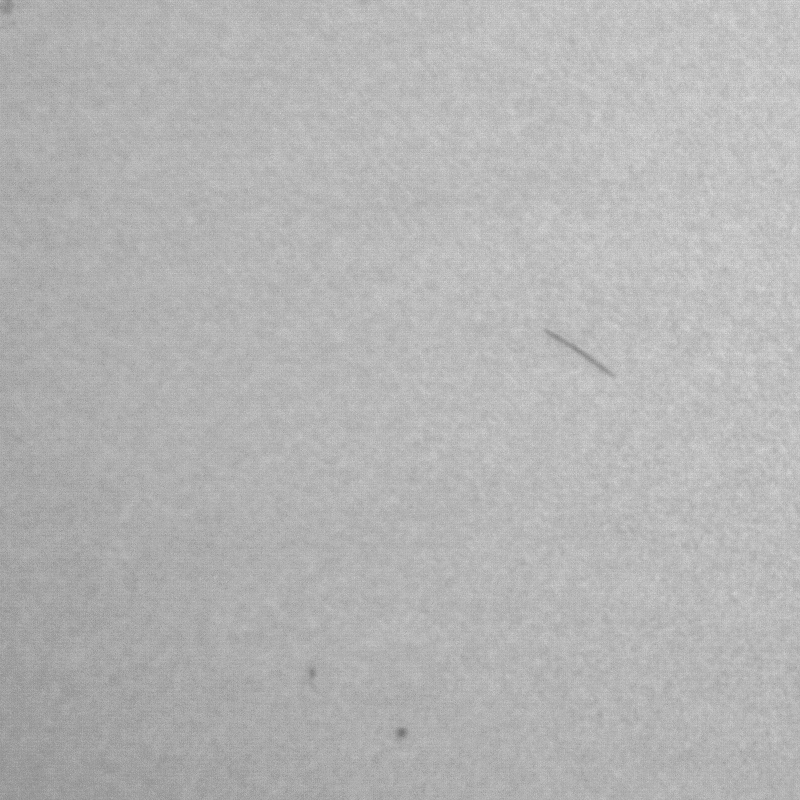defect: (544, 322, 623, 383), (392, 720, 415, 747), (305, 664, 324, 685)
